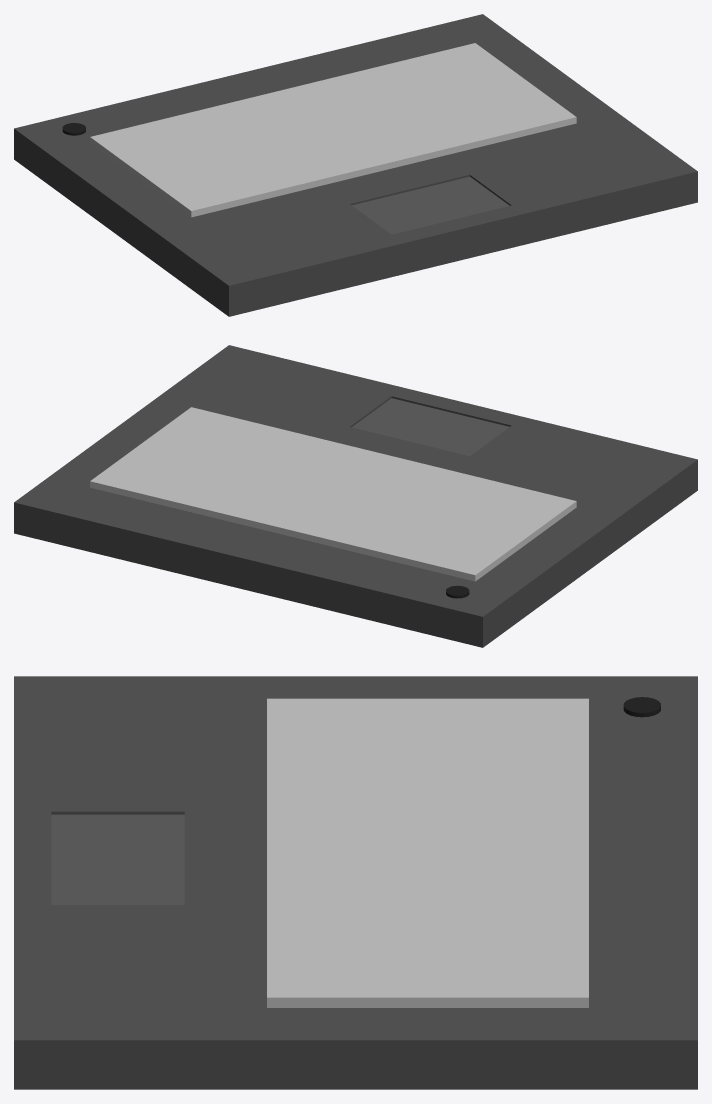
The model's file is Itr_Obj_Laptop_Board_05.FBX.
The picture shows the model from 3 angles, top to bottom: view 1: azimuth 30°, elevation 25°; view 2: azimuth 150°, elevation 25°; view 3: azimuth 270°, elevation 25°; orthographic projection. The views are drawn at different scales.
Visible parts, largest first — view 1: Itr_Obj_Laptop_Board_05; view 2: Itr_Obj_Laptop_Board_05; view 3: Itr_Obj_Laptop_Board_05.
Part boxes in pixels (box(x1,y1,x2,y2)): Itr_Obj_Laptop_Board_05: box(14, 14, 697, 316); Itr_Obj_Laptop_Board_05: box(14, 345, 697, 647); Itr_Obj_Laptop_Board_05: box(14, 676, 697, 1089).
Bounding box in the file's own units: 29.1 × 2.22 × 23.12.
